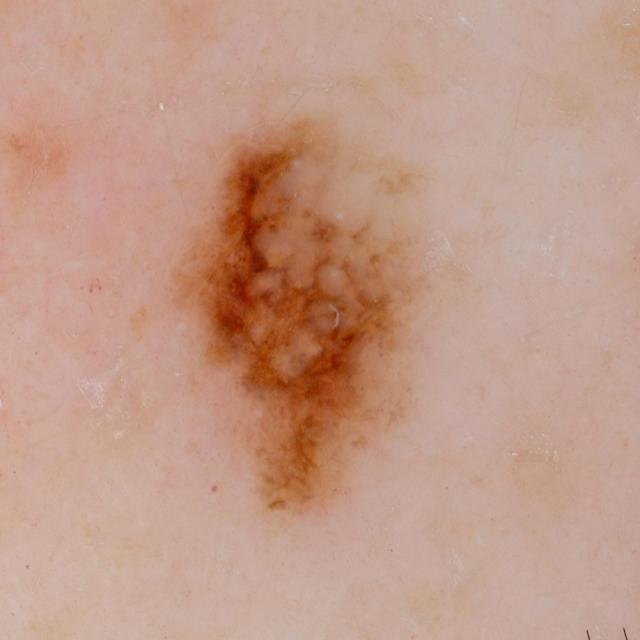Benign: (180, 82, 439, 524)
